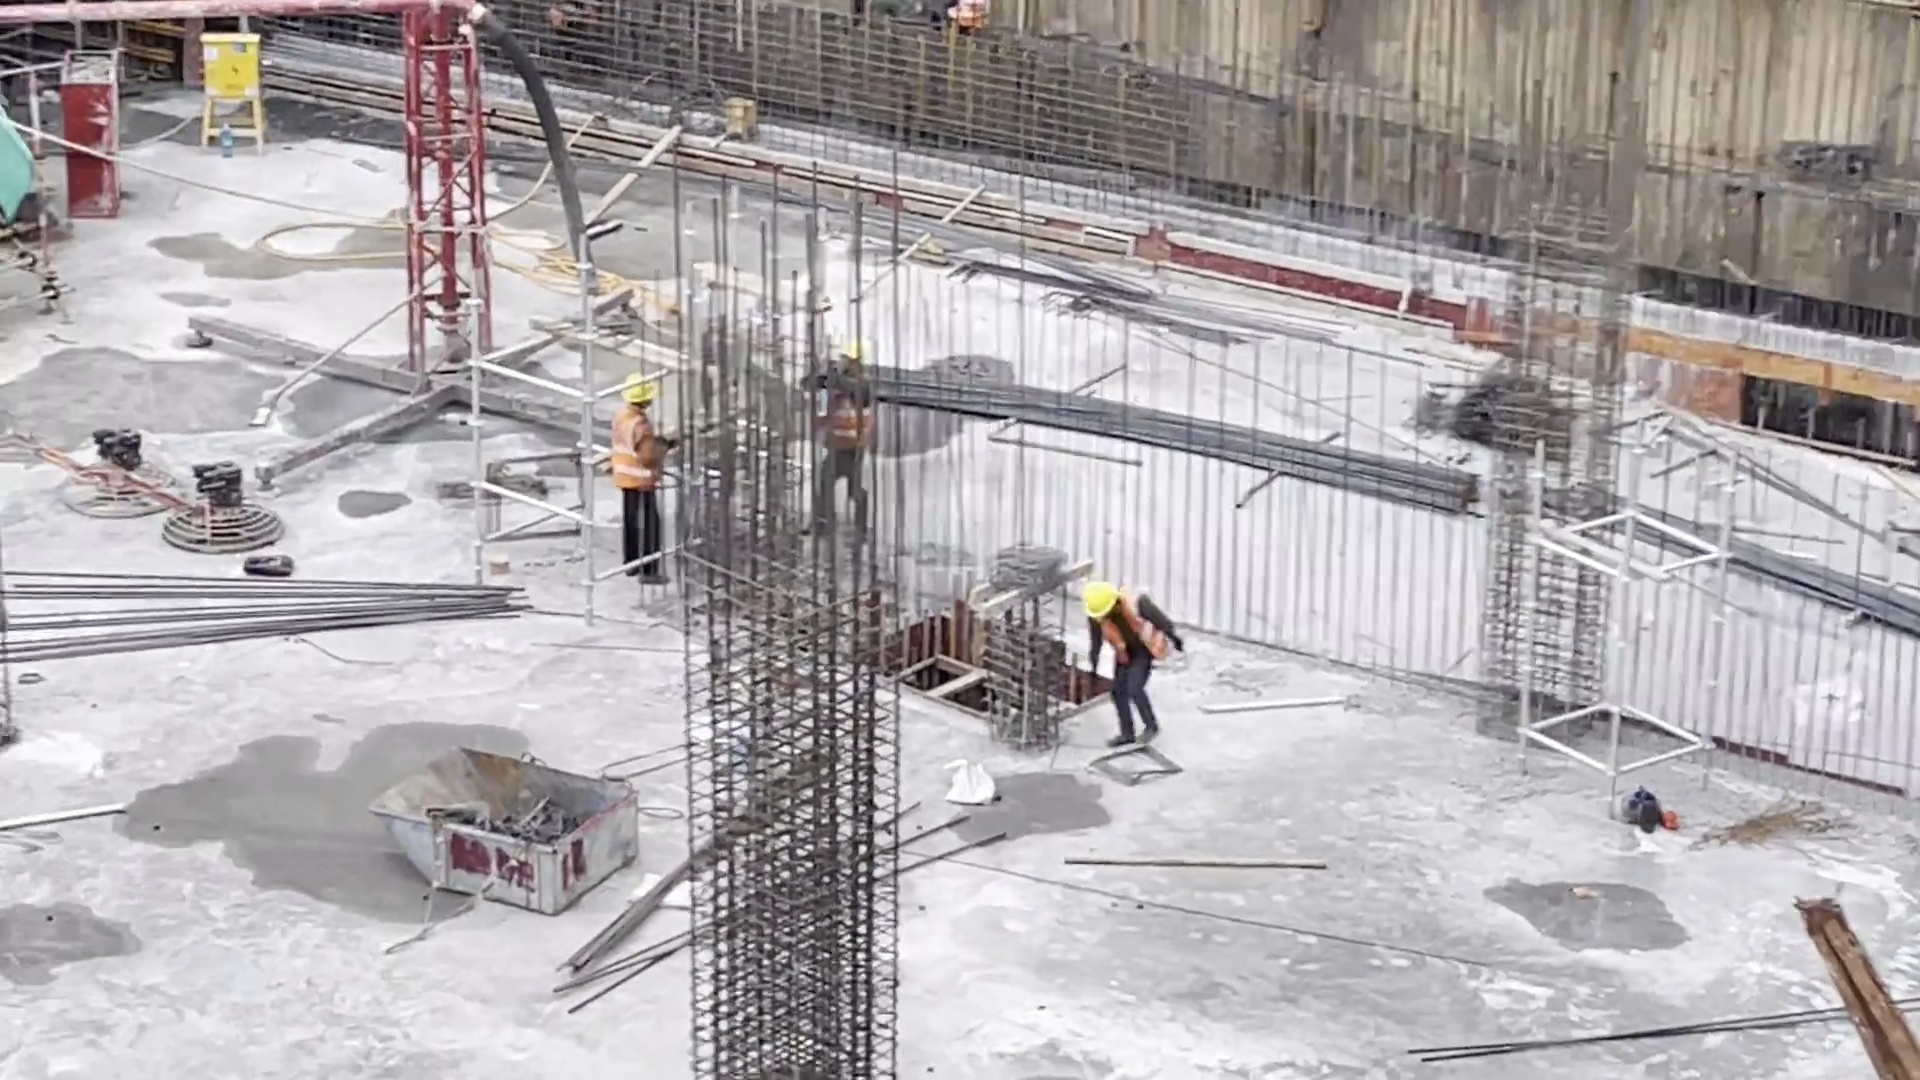helmet: (1077, 578, 1122, 618), (618, 373, 660, 408)
hopper: (369, 747, 646, 915)
person: (603, 372, 695, 595), (1079, 582, 1183, 749), (806, 339, 886, 542)
rebar: (919, 339, 1485, 512), (38, 556, 538, 647)
vest: (604, 415, 672, 487), (1095, 615, 1167, 667), (831, 383, 878, 456)
